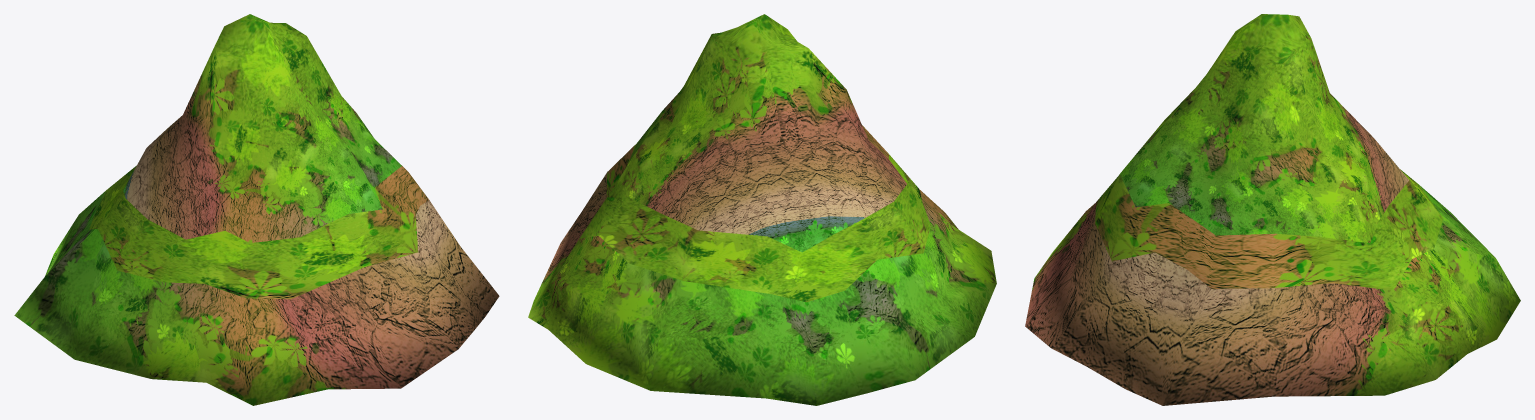
Rendered from CliffAboveSea_peel.FBX.
The picture shows the model from 3 angles, left to right: view 1: azimuth 30°, elevation 25°; view 2: azimuth 150°, elevation 25°; view 3: azimuth 270°, elevation 25°; orthographic projection. The views are drawn at different scales.
Visible parts, largest first — view 1: Box001; view 2: Box001; view 3: Box001.
Boxes of the visible parts, <box> form: Box001: <box>14,14,499,405</box>; Box001: <box>528,14,996,405</box>; Box001: <box>1025,14,1520,405</box>.
Size of the model in its own units: 149 by 108 by 155.
